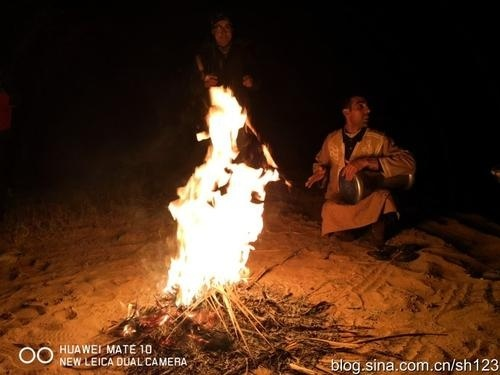fire: (161, 75, 286, 296)
